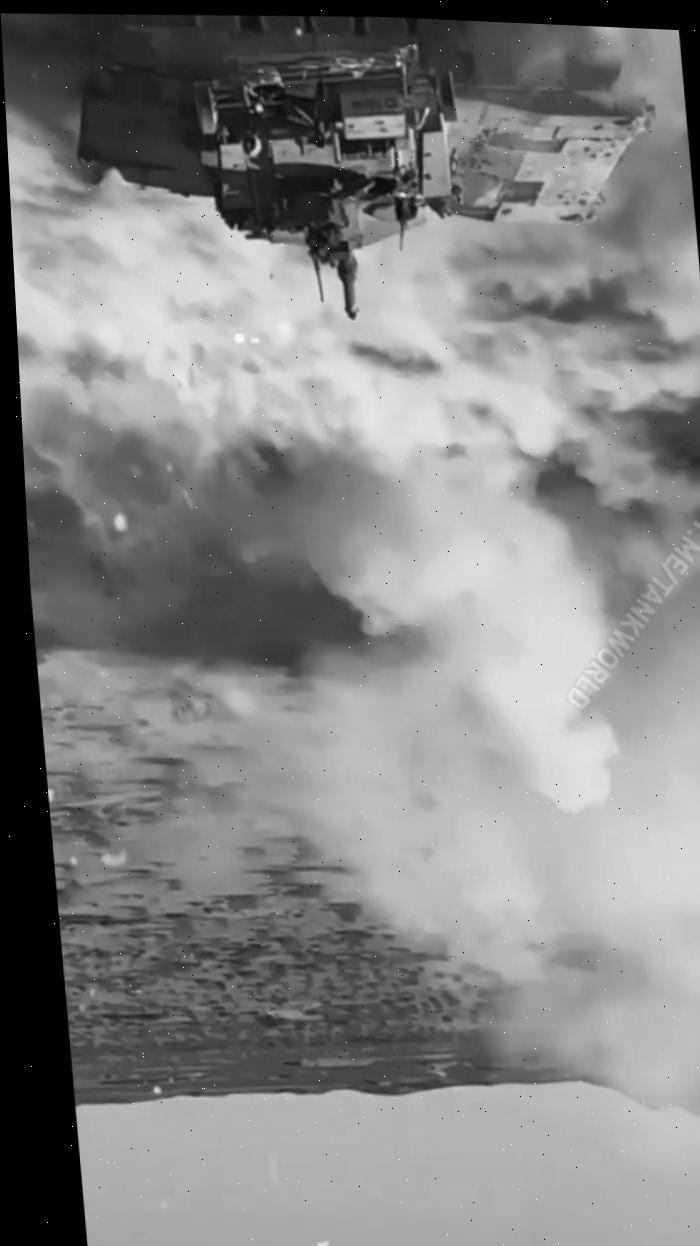tank: (63, 3, 665, 348)
